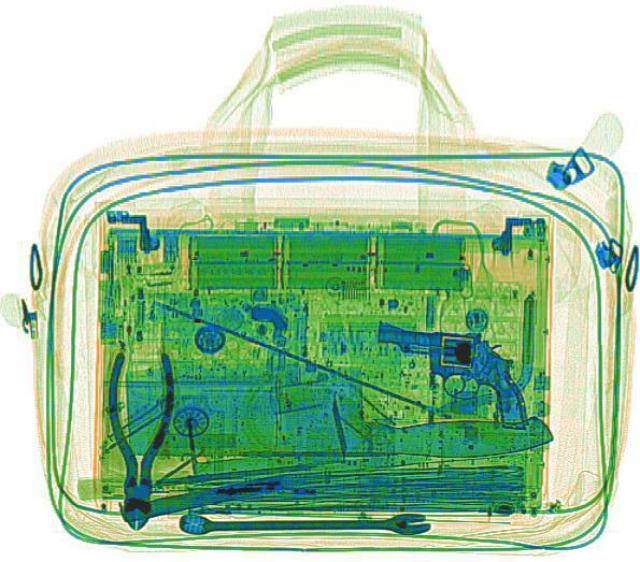Gun: (367, 319, 536, 426)
Knife: (123, 359, 549, 458)
Pliers: (99, 350, 175, 529)
Wrench: (176, 508, 430, 533)
